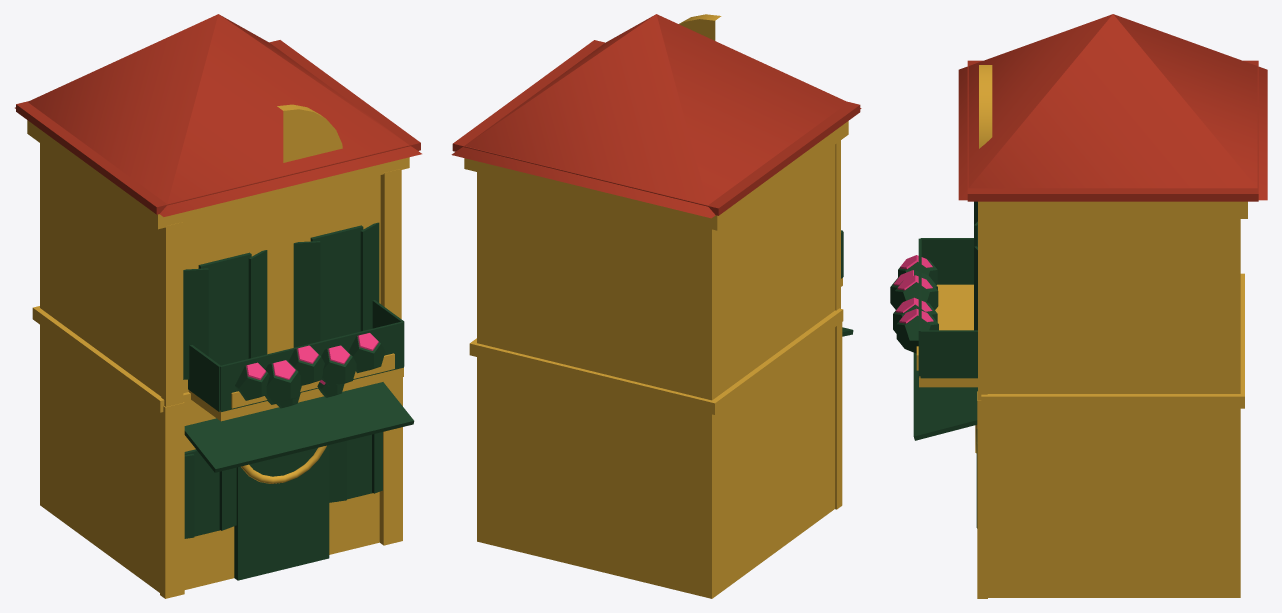
Rendered from saigon_colonial_shophouse.glb.
3 renders of one model, left to right at view 1: azimuth 30°, elevation 25°; view 2: azimuth 150°, elevation 25°; view 3: azimuth 270°, elevation 25°, orthographic. The views are drawn at different scales.
Visible parts, largest first — view 1: Walls, TrimAndShutters, Roof, Bougainvillea; view 2: Walls, Roof; view 3: Walls, Roof, TrimAndShutters, Bougainvillea.
Part boxes in pixels (box(x1,y1,x2,y2)): Walls: box(27, 104, 409, 598); TrimAndShutters: box(183, 222, 414, 580); Roof: box(15, 14, 421, 216); Bougainvillea: box(246, 333, 378, 384); Walls: box(464, 14, 848, 598); Roof: box(451, 14, 861, 218); Walls: box(916, 65, 1247, 598); Roof: box(958, 14, 1267, 201); TrimAndShutters: box(890, 201, 977, 528); Bougainvillea: box(893, 255, 933, 323).
Bounding box in the file's own units: 5.2 × 9.55 × 6.22.
